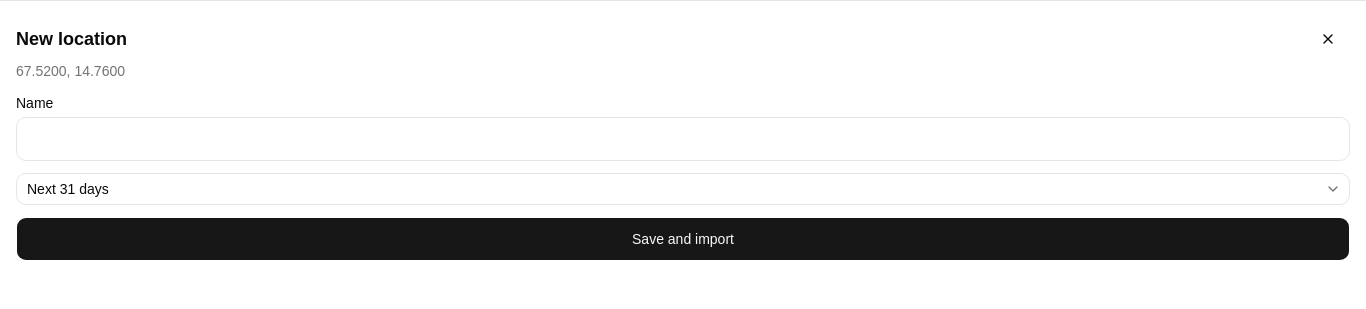
Test: NewLocationCard › shows the API's message and imports nothing when the location is refused
This screenshot has width=1366, height=309.
Type "Inland" into the field labelled "Name" at (683, 139), box [16, 117, 1350, 161]
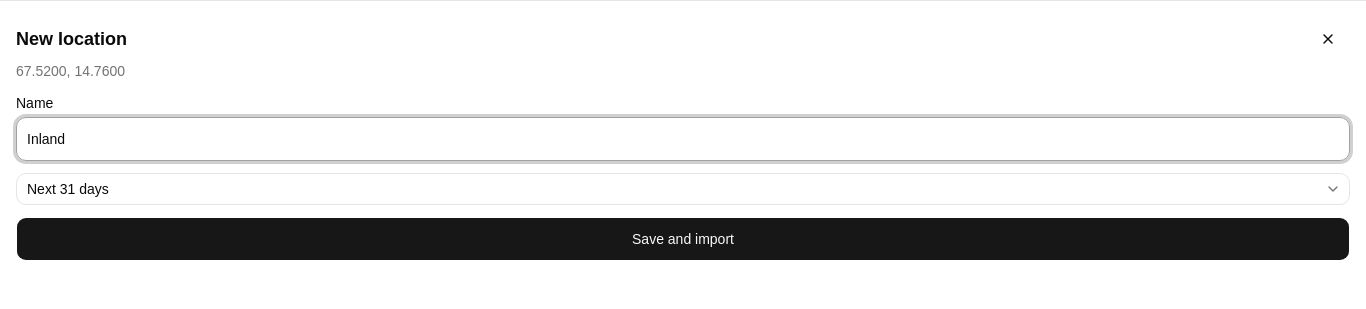
Click the button "Save and import" at (683, 239), box [16, 217, 1350, 261]
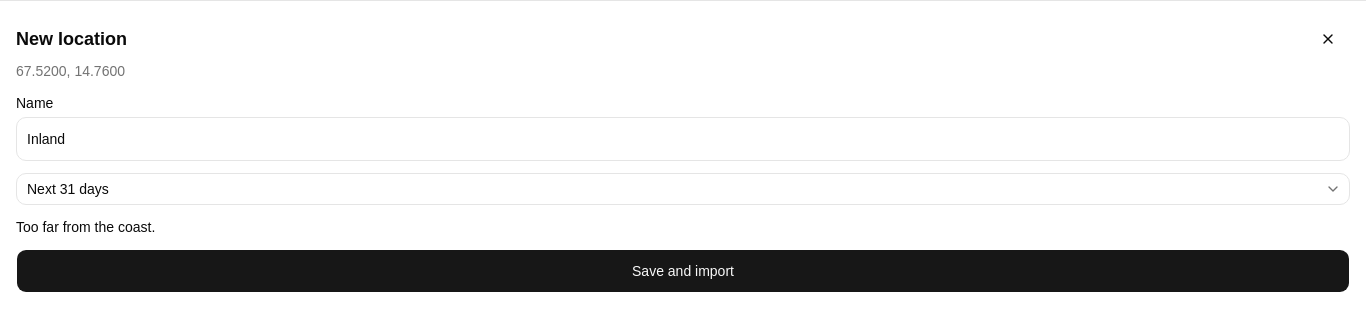
expect the message reads "Too far from the coast.": met, box [16, 219, 155, 235]
